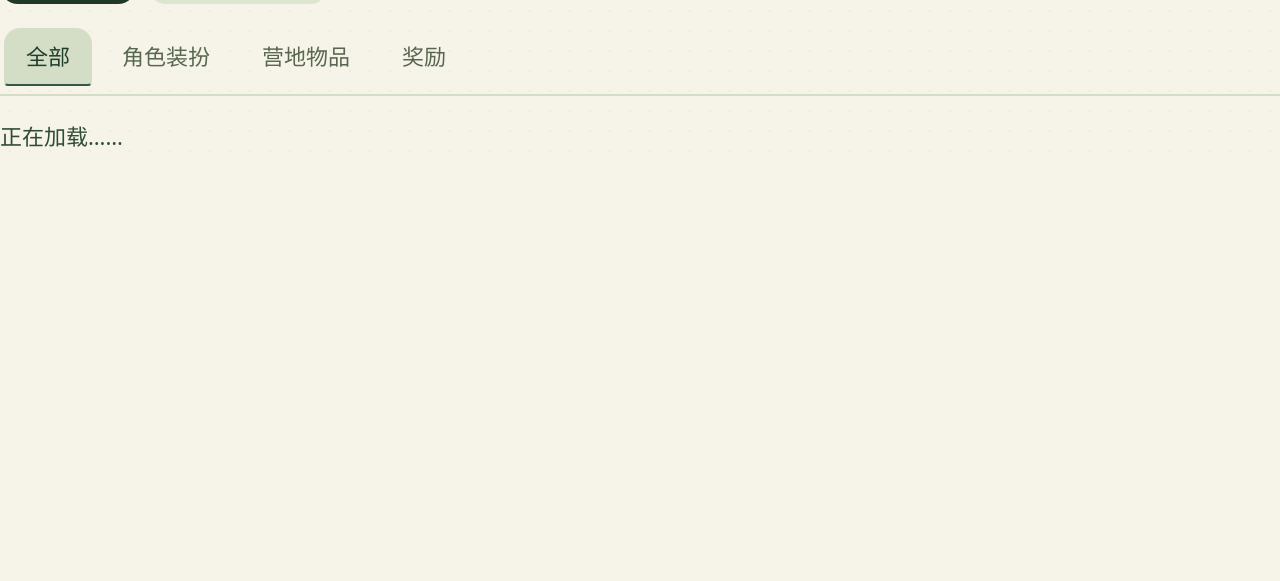
Test: 背包分类与奖励 › 奖励分页沿用兑现状态，切换已兑现后重置游标
The width and height of the screenshot is (1280, 581).
What coordinates should you click on to do the following:
click the tab "奖励"
I would click on:
 (424, 57)
Its box is [380,28,468,86].
(page scrolled)
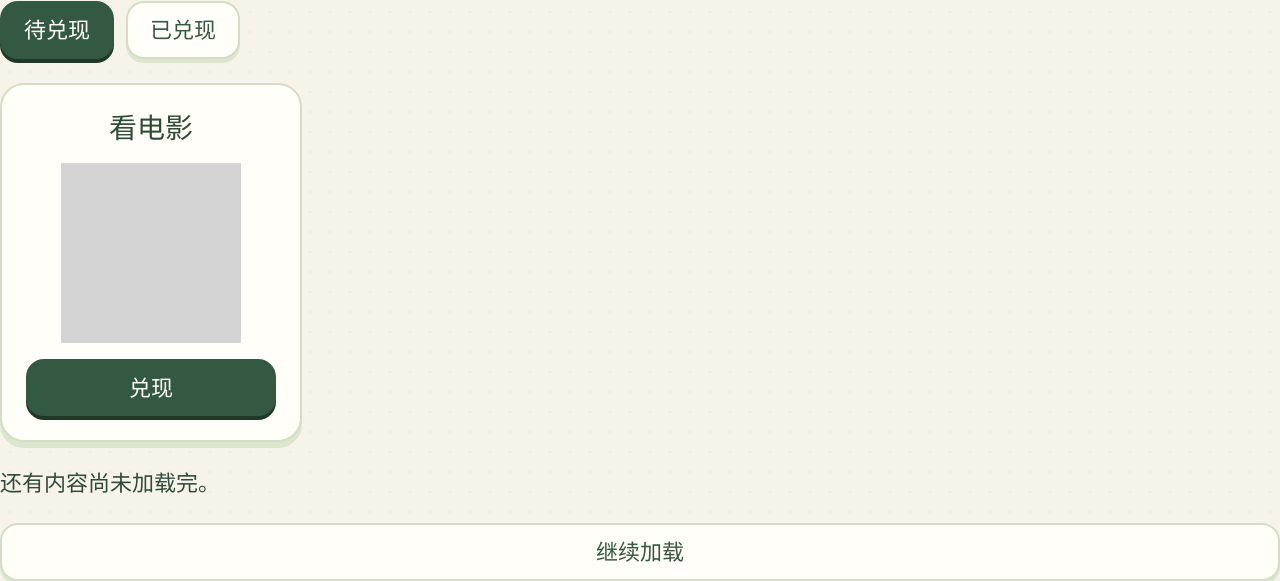
What coordinates should you click on to do the following:
click the button "继续加载"
I would click on:
 (640, 552)
Its box is [0,523,1279,580].
(page scrolled)
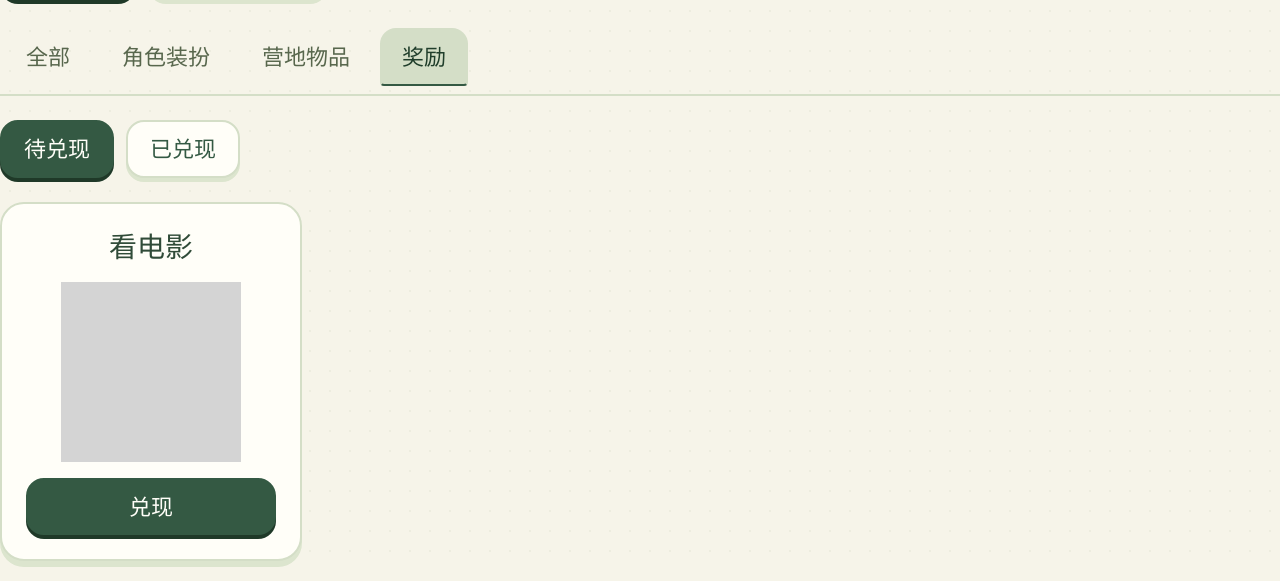
What coordinates should you click on to do the following:
click the button "已兑现"
I would click on:
 (183, 149)
Its box is [126,120,240,178].
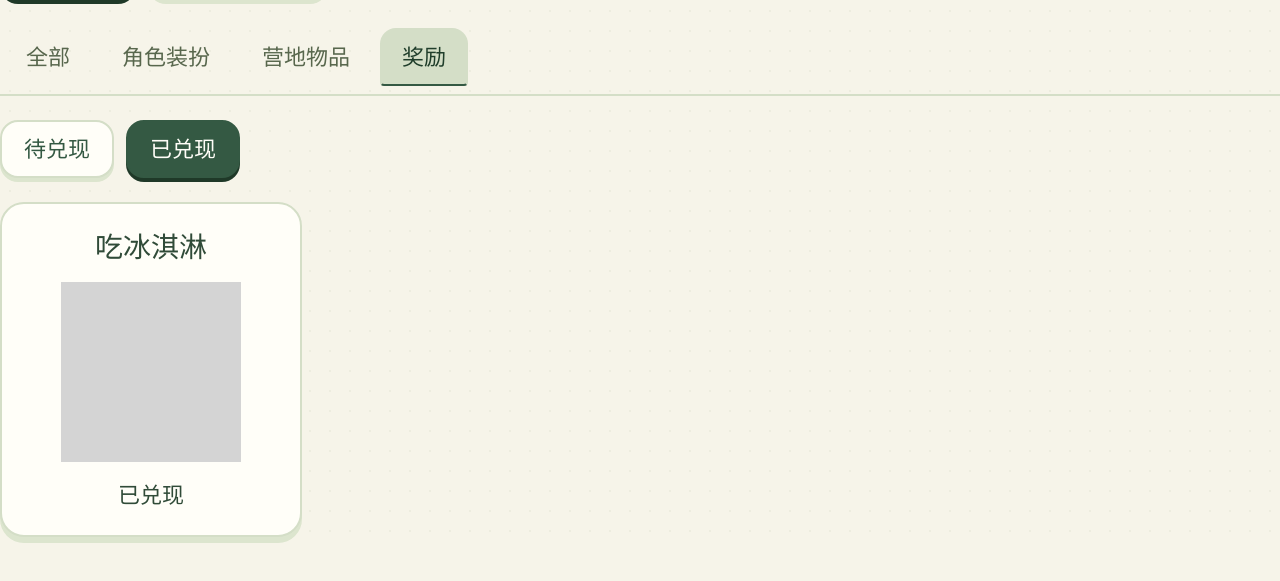
Check: the heading "吃冰淇淋" is shown, box [95,227,207,265]
Check: the heading "看电影" is gone
